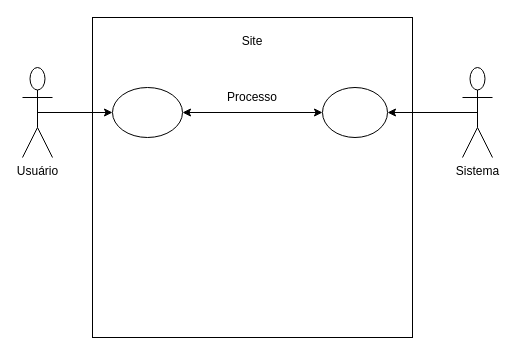
Image size: 516x355. Some labels were removed from this diagram. The centre of each missing label's shape, as x and y in pixels:
Calcula o IMC: pixel 355 112
Insere seu peso e altura: pixel 147 112
